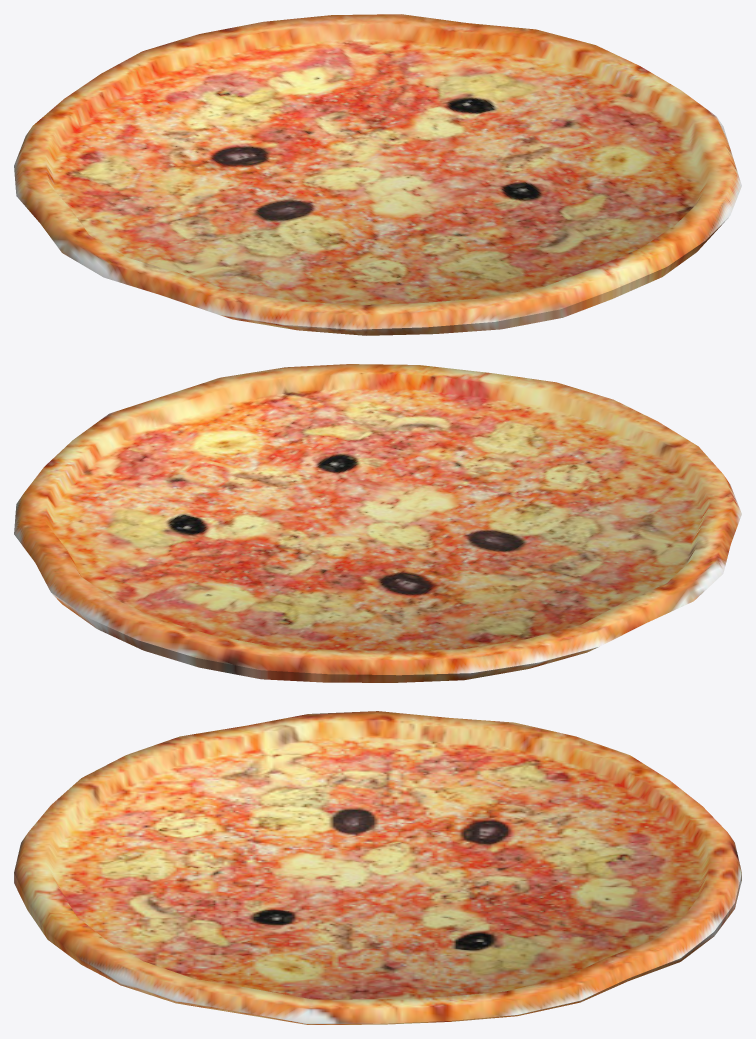
Rendered from sweethome3d-contributions-pizza.glb.
The picture shows the model from 3 angles, top to bottom: view 1: azimuth 30°, elevation 25°; view 2: azimuth 150°, elevation 25°; view 3: azimuth 270°, elevation 25°; orthographic projection.
Visible parts, largest first — view 1: Cylinder_4; view 2: Cylinder_4; view 3: Cylinder_4.
Boxes of the visible parts, bbox=[...] form: Cylinder_4: bbox=[14, 14, 741, 335]; Cylinder_4: bbox=[14, 364, 741, 682]; Cylinder_4: bbox=[14, 711, 741, 1024].
Bounding box in the file's own units: 29.73 × 0.9094 × 30.
1 material, 1 textured.
